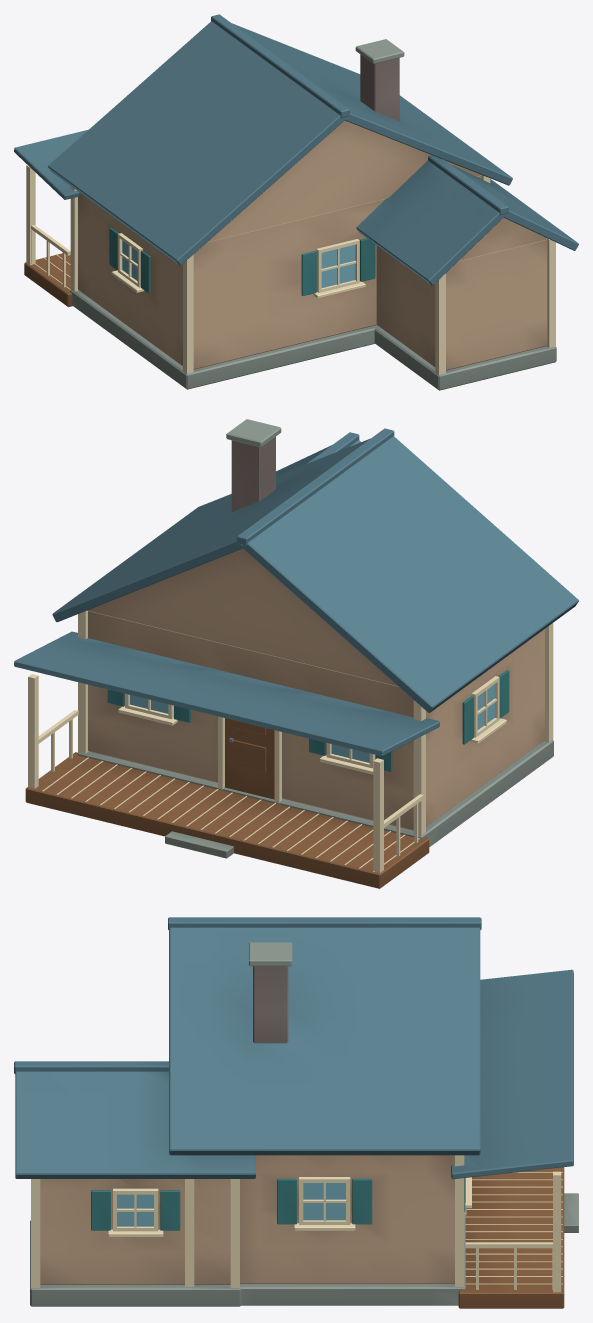
The model's file is sm_arch_delivery_house_farmhouse.glb.
The picture shows the model from 3 angles, top to bottom: view 1: azimuth 30°, elevation 25°; view 2: azimuth 150°, elevation 25°; view 3: azimuth 270°, elevation 25°; orthographic projection. The views are drawn at different scales.
Visible parts, largest first — view 1: Roof, HouseWalls, HouseWalls.001, RoofGable.001, WingRoof, Roof.001, Foundation, Foundation.001, Chimney, WingRoof.001, PorchRoof, RoofRidge (+12 smaller); view 2: Roof, HouseWalls, Porch, PorchRoof, RoofGable, Roof.001, Foundation, Chimney, FrontDoor, RoofRidge, CornerBoard.001, PorchPost (+6 smaller); view 3: Roof.001, HouseWalls, PorchRoof, WingRoof.001, HouseWalls.001, Porch, Foundation, Foundation.001, RoofRidge, Chimney, WingRoofRidge, WindowGlass.004 (+13 smaller).
Part boxes in pixels (left/top/right/bottom): Roof: left=48, top=21, right=345, bottom=265; HouseWalls: left=78, top=175, right=481, bottom=369; HouseWalls.001: left=376, top=239, right=547, bottom=370; RoofGable.001: left=208, top=120, right=481, bottom=241; WingRoof: left=356, top=160, right=503, bottom=285; Roof.001: left=232, top=23, right=512, bottom=185; Foundation: left=70, top=289, right=378, bottom=389; Foundation.001: left=374, top=327, right=556, bottom=390; Chimney: left=360, top=54, right=399, bottom=121; WingRoof.001: left=452, top=165, right=578, bottom=250; PorchRoof: left=14, top=129, right=88, bottom=199; RoofRidge: left=211, top=14, right=349, bottom=117; Roof: left=242, top=436, right=578, bottom=712; HouseWalls: left=88, top=610, right=544, bottom=830; Porch: left=25, top=752, right=429, bottom=888; PorchRoof: left=14, top=631, right=439, bottom=756; RoofGable: left=87, top=548, right=397, bottom=686; Roof.001: left=52, top=438, right=370, bottom=622; Foundation: left=77, top=739, right=553, bottom=846; Chimney: left=231, top=436, right=275, bottom=511; FrontDoor: left=225, top=718, right=274, bottom=799; RoofRidge: left=237, top=428, right=394, bottom=545; CornerBoard.001: left=413, top=700, right=425, bottom=835; PorchPost: left=373, top=758, right=383, bottom=872; Roof.001: left=169, top=927, right=480, bottom=1155; HouseWalls: left=240, top=1155, right=454, bottom=1283; PorchRoof: left=451, top=969, right=573, bottom=1179; WingRoof.001: left=15, top=1071, right=255, bottom=1178; HouseWalls.001: left=40, top=1179, right=230, bottom=1284; Porch: left=458, top=1167, right=564, bottom=1308; Foundation: left=194, top=1214, right=465, bottom=1305; Foundation.001: left=30, top=1220, right=241, bottom=1306; RoofRidge: left=168, top=917, right=481, bottom=929; Chimney: left=253, top=966, right=288, bottom=1043; WingRoofRidge: left=14, top=1061, right=168, bottom=1073; WindowGlass.004: left=303, top=1183, right=345, bottom=1220.
Bounding box in the file's own units: 7.99 × 5.85 × 9.62.
